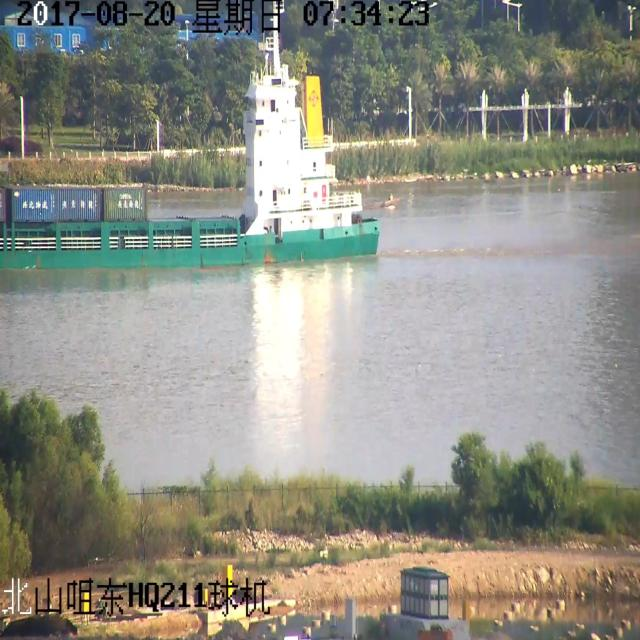cargoship: (0, 56, 399, 255)
